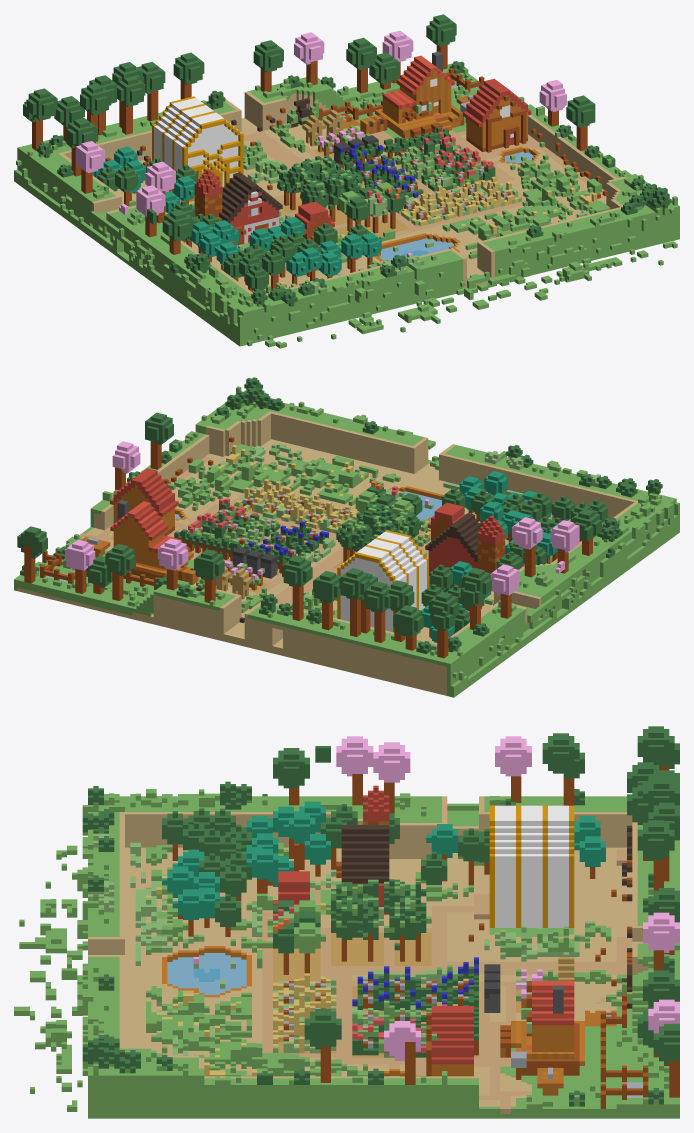
Rendered from my_stardew_valley_farm-qyeIgYac.glb.
The picture shows the model from 3 angles, top to bottom: view 1: azimuth 30°, elevation 25°; view 2: azimuth 150°, elevation 25°; view 3: azimuth 270°, elevation 25°; orthographic projection. The views are drawn at different scales.
Visible parts, largest first — view 1: Object_2; view 2: Object_2; view 3: Object_2.
Part boxes in pixels (x1=…): Object_2: x1=14, y1=14, x2=679, y2=348; Object_2: x1=14, y1=377, x2=679, y2=697; Object_2: x1=14, y1=726, x2=679, y2=1118.
Size of the model in its own units: 9.41 by 1.94 by 9.41.
1 material, 1 textured.
